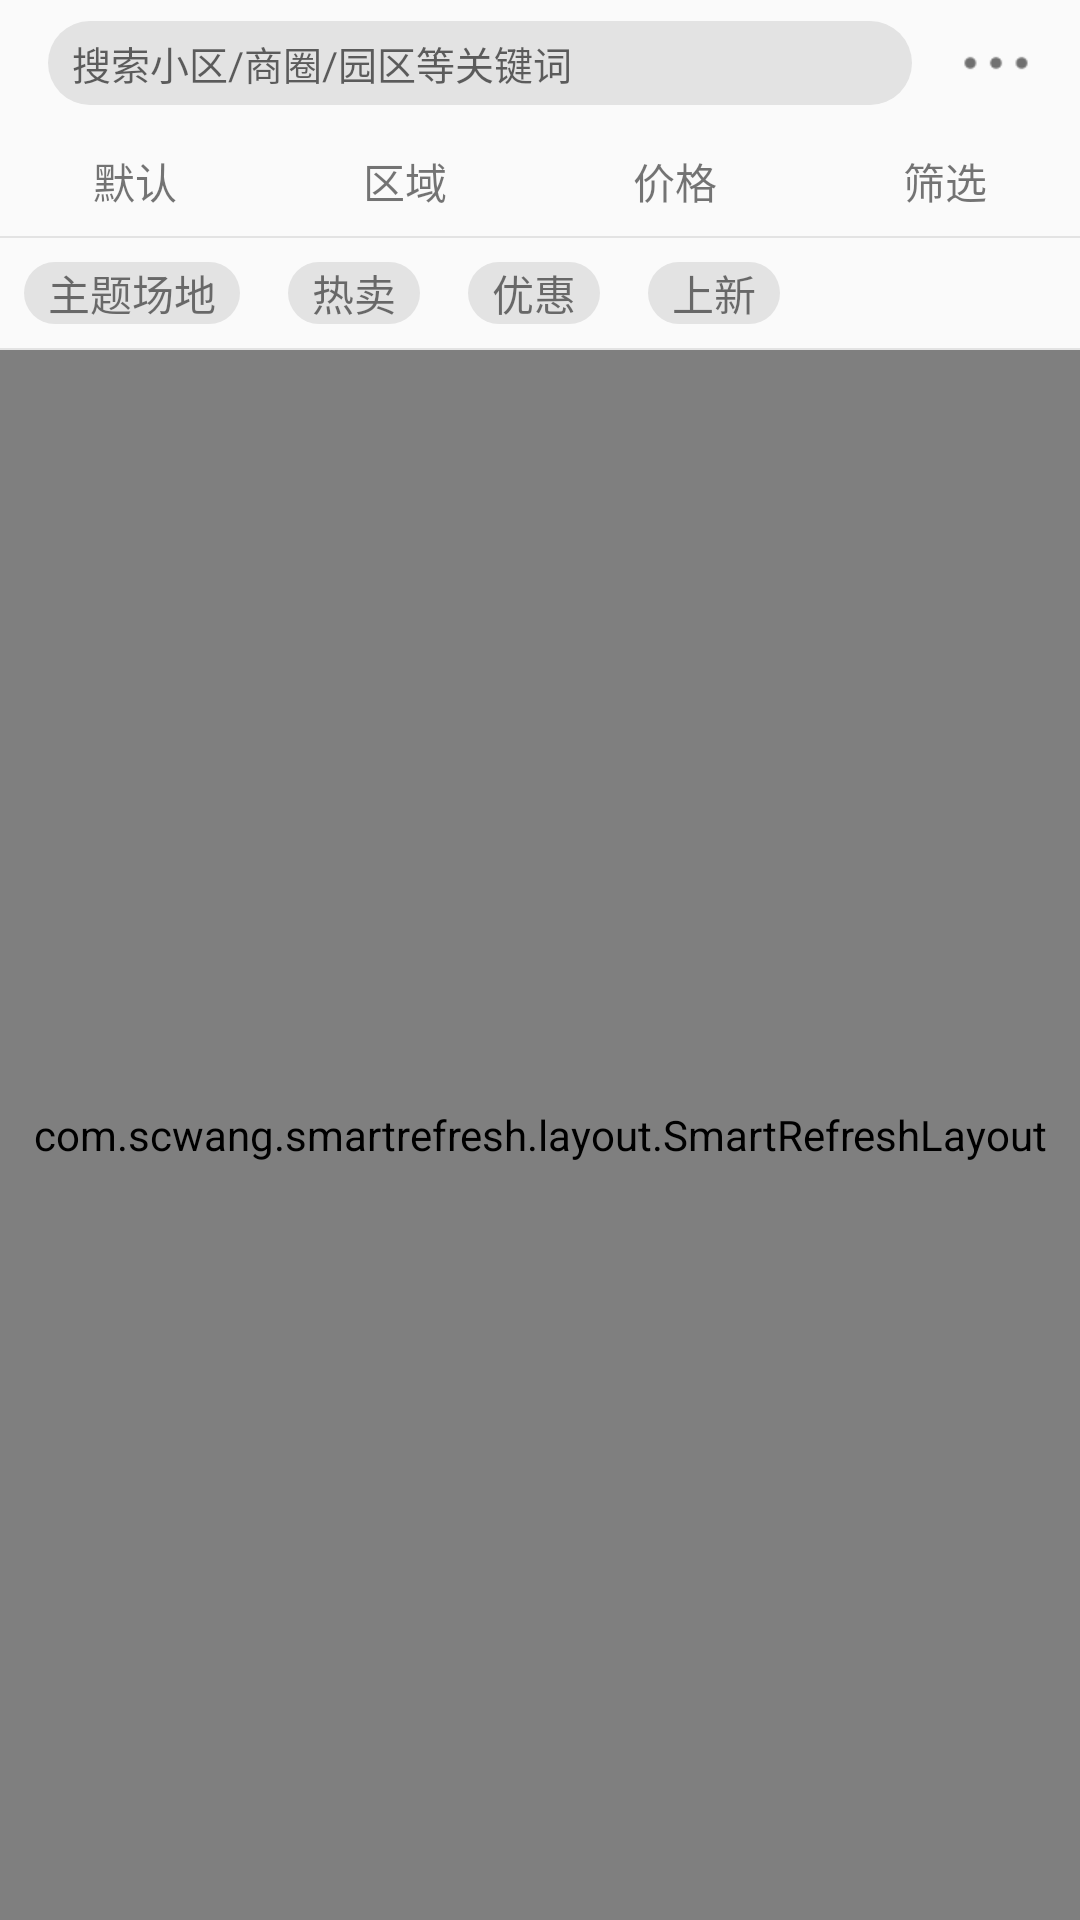

Named icons in this screenshot (1080 x 1920) and their bounding boxes, (x1, y1, x2, y2):
more: (964, 57, 1028, 69)
